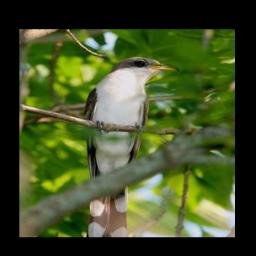Cuckoo: (81, 54, 182, 236)
